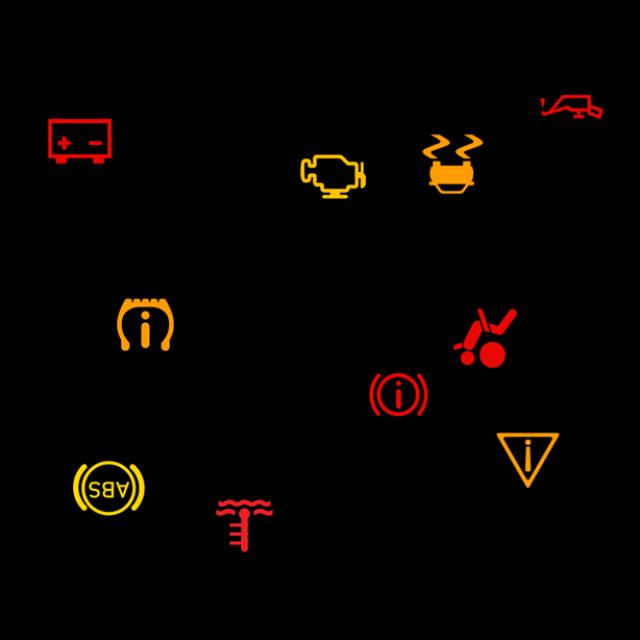Anti Lock Braking System: (70, 448, 148, 526)
Braking System Issue: (360, 354, 438, 432)
Charging System Issue: (41, 101, 118, 179)
Check Engine: (294, 136, 372, 214)
Electronic Stability Problem -ESP-: (414, 124, 492, 202)
Engine Overheating Warning Light: (206, 486, 284, 564)
Low Engine Oil Warning Light: (532, 67, 610, 145)
Low Tire Pressure Warning Light: (106, 284, 184, 362)
Master warning light: (489, 420, 567, 498)
SRS-Airbag: (446, 298, 524, 376)
